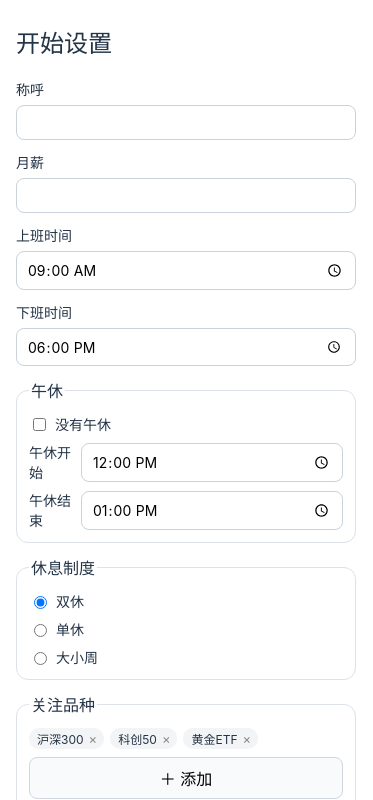
Test: SetupWizard › shows an empty wish name error inline
The image size is (373, 800).
In the field labelled "称呼": [186, 122] box [16, 105, 356, 140], type "小叶"
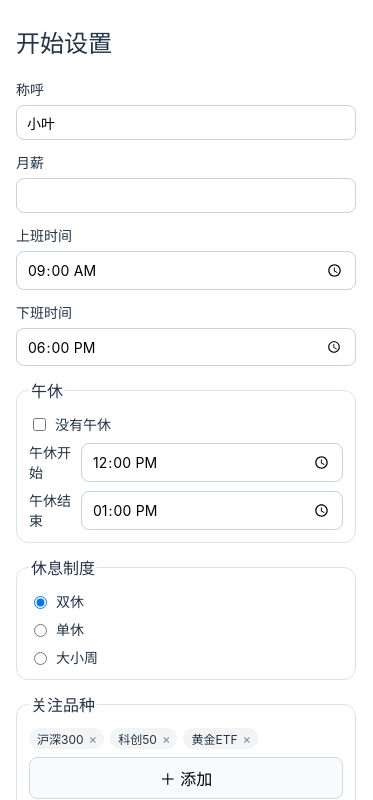
In the number field labelled "月薪": [186, 196] box [16, 178, 356, 213], type "21000"
(page scrolled)
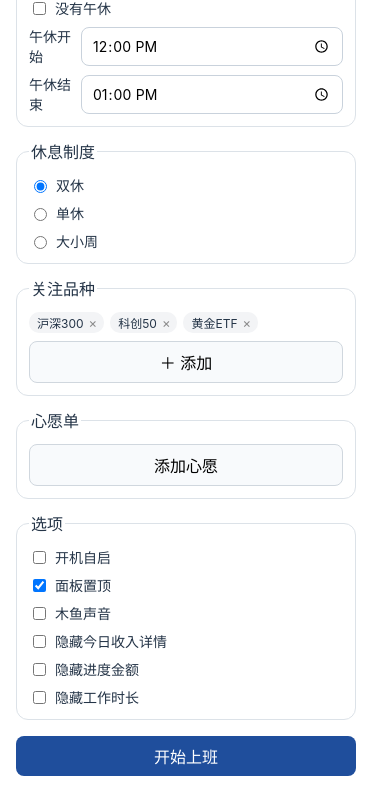
Click the button "添加心愿": [186, 465] box [29, 444, 343, 486]
(page scrolled)
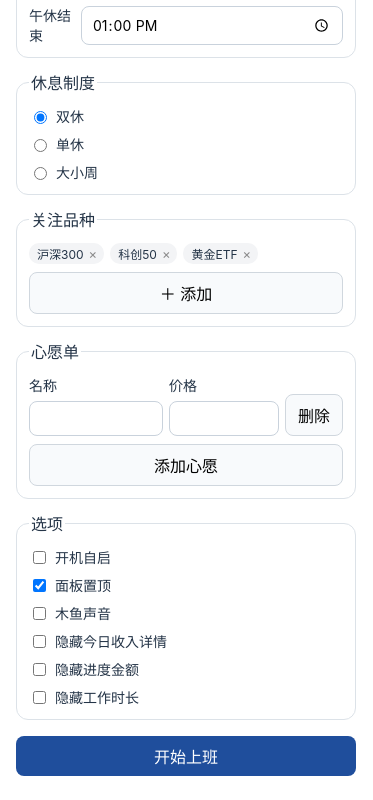
Click the button "开始上班": [186, 756] box [16, 736, 356, 776]
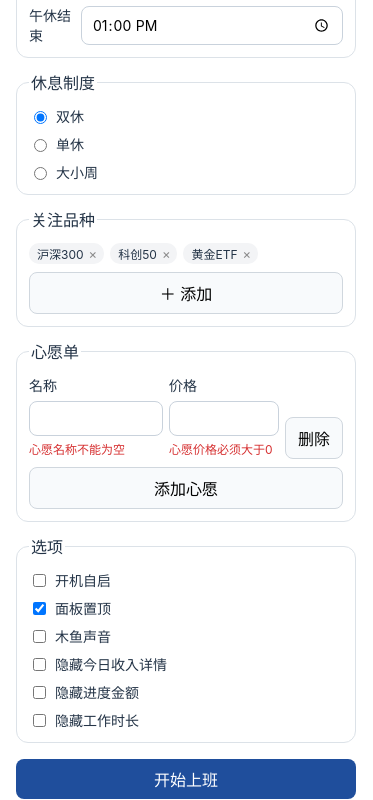
expect the text "心愿名称不能为空" is shown: met, box [29, 442, 125, 457]
